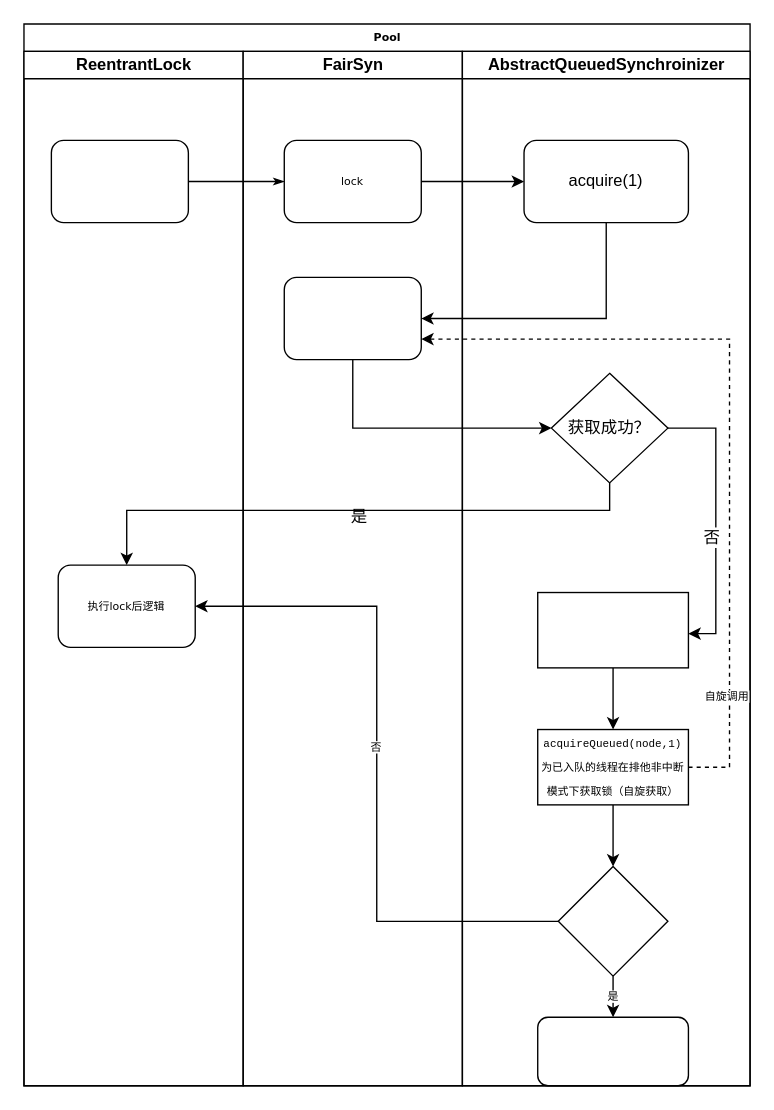
The diagram is 774 pixels wide and 1110 high, and some of its shapes have lost their labels. Each missing label, with the centre of its shape:
addWaiter( Node. EXCLUSIVE ) 以非共享锁模式加入等待队列.此操作使用cas和自旋方式操作进行入队，最终一定成功: the point at 612,629
lock(): the point at 119,181
tryAcquire(1): the point at 352,318
是否被中断: the point at 612,920
自行中断: the point at 612,1051
